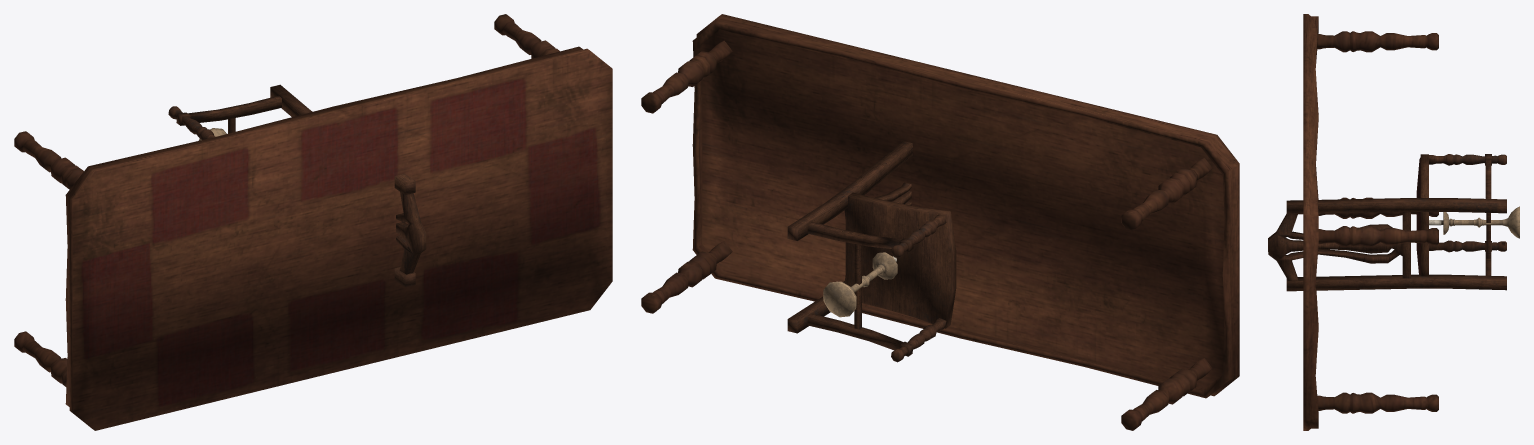
Rendered from dining-scene-30b9b1.glb.
3 views of the same model, side by side, from view 1: azimuth 30°, elevation 25°; view 2: azimuth 150°, elevation 25°; view 3: azimuth 270°, elevation 25° (orthographic). The views are drawn at different scales.
Visible parts, largest first — view 1: PropMesh; view 2: PropMesh; view 3: PropMesh.
Part boxes in pixels (x1=…): PropMesh: x1=14, y1=14, x2=612, y2=430; PropMesh: x1=641, y1=14, x2=1239, y2=430; PropMesh: x1=1268, y1=14, x2=1519, y2=430.
Size of the model in its own units: 4.79 by 2.2 by 2.33.
Materials: 4 (4 with a texture image).
